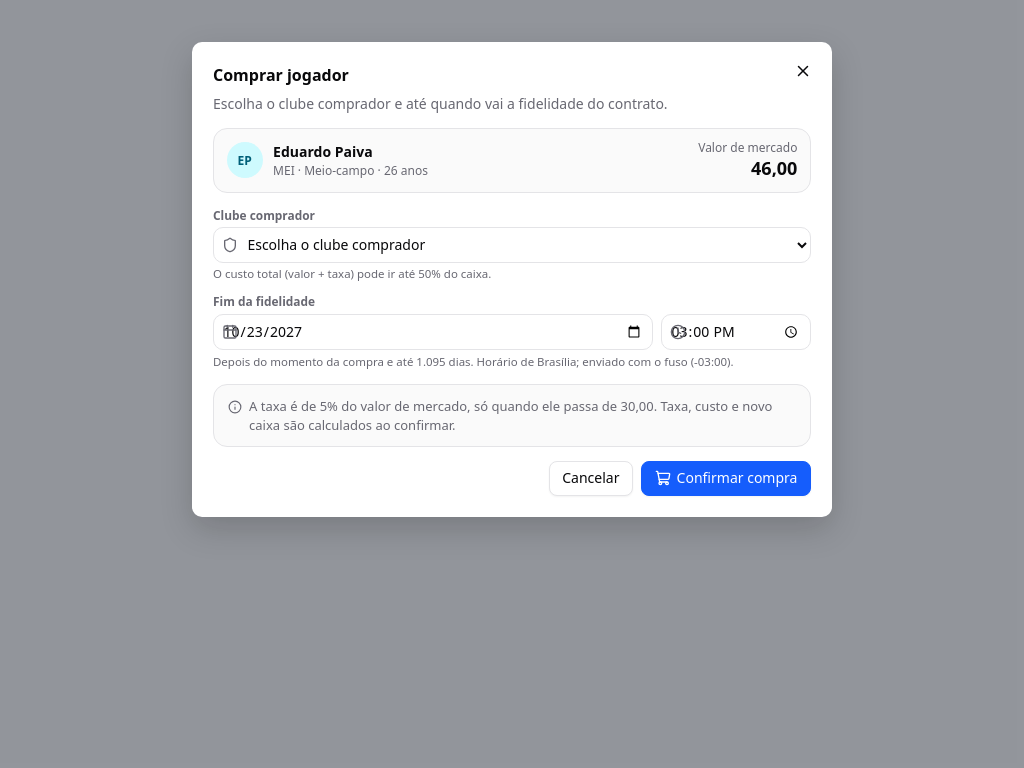
Test: BuyPlayerModal › não envia a compra sem escolher o clube
Expected: the dropdown labelled "Clube comprador" is shown, [213,227,811,263]
Click the button "Confirmar compra".
click(726, 478)  # box [641,461,811,496]
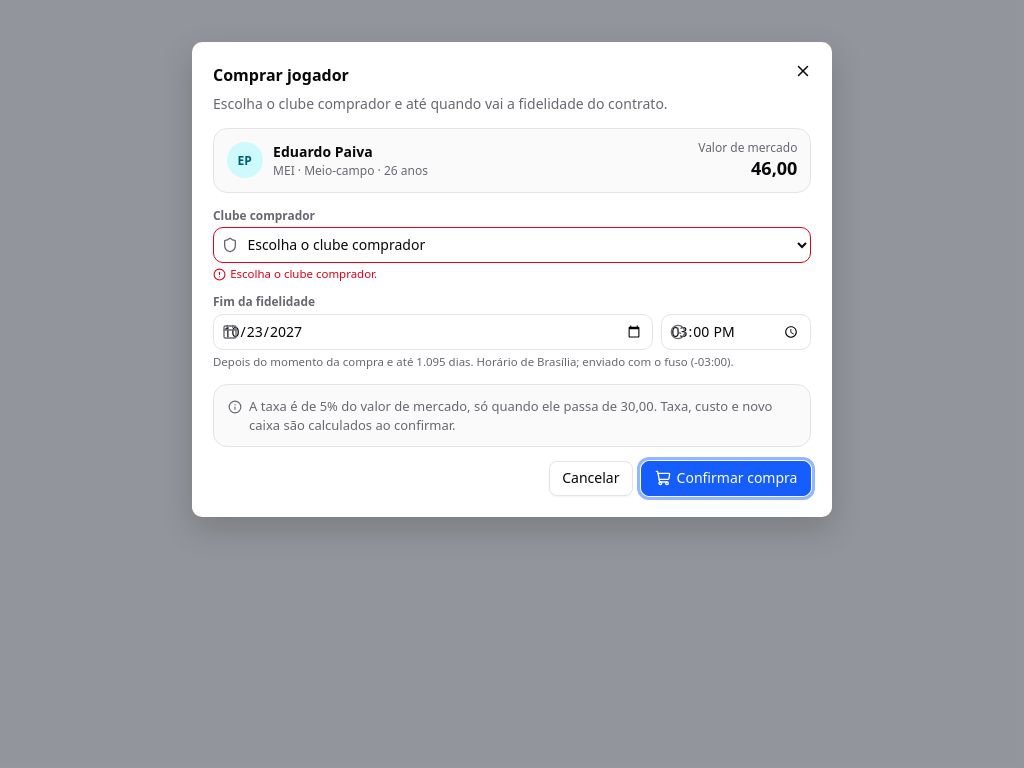
Result: the text "Escolha o clube comprador." is shown at [213,266,377,281]
